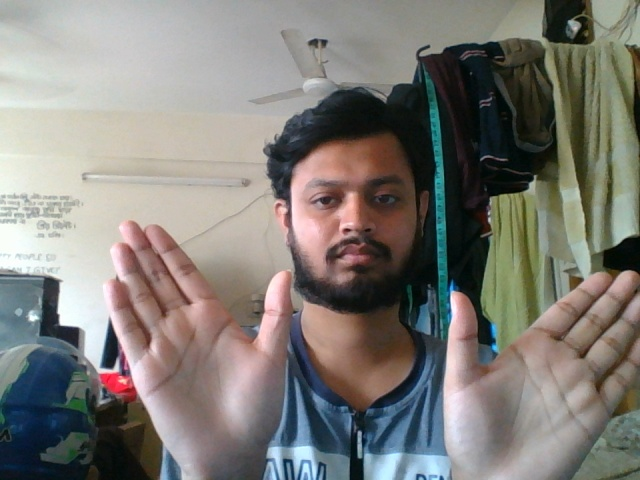naa: (102, 217, 640, 470)
